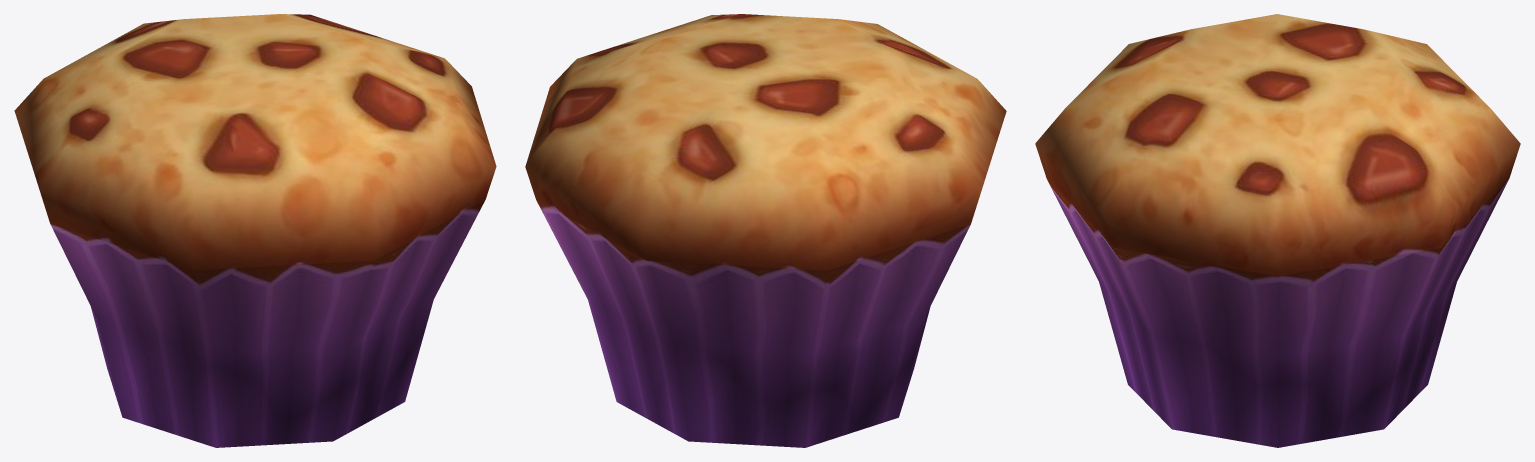
File: Veseli grad dodatak kolacic 1. mart.fbx
The picture shows the model from 3 angles, left to right: view 1: azimuth 30°, elevation 25°; view 2: azimuth 150°, elevation 25°; view 3: azimuth 270°, elevation 25°; orthographic projection. The views are drawn at different scales.
Visible parts, largest first — view 1: SE_Muffin_01; view 2: SE_Muffin_01; view 3: SE_Muffin_01.
Boxes of the visible parts, left/top/right/bottom form: SE_Muffin_01: left=14, top=14, right=496, bottom=447; SE_Muffin_01: left=525, top=14, right=1006, bottom=447; SE_Muffin_01: left=1035, top=14, right=1520, bottom=447.
Bounding box in the file's own units: 130 × 93.13 × 130.
1 material, 1 textured.
